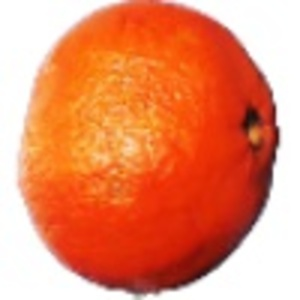tangerina: (15, 1, 283, 300)
